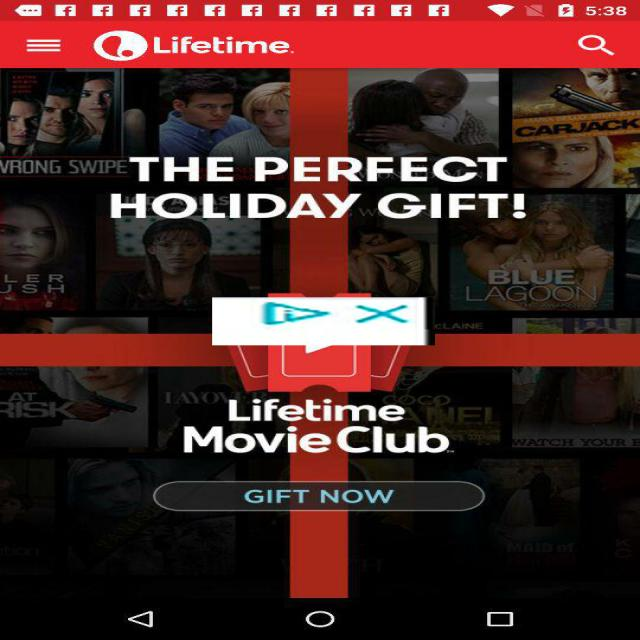sneaking: (212, 298, 435, 346)
